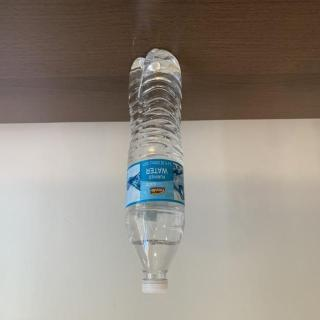Anorganik: (123, 44, 187, 298)
